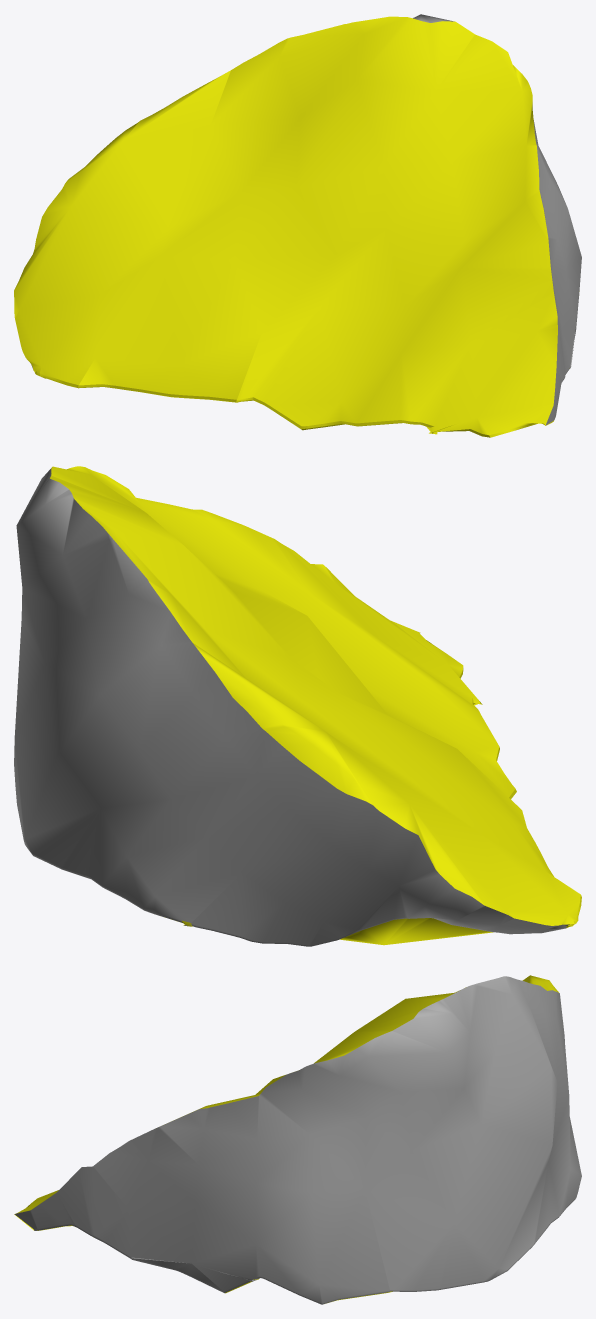
File: Rock_01_06.fbx
3 renders of one model, top to bottom at view 1: azimuth 30°, elevation 25°; view 2: azimuth 150°, elevation 25°; view 3: azimuth 270°, elevation 25°, orthographic. The views are drawn at different scales.
Visible parts, largest first — view 1: shard1; view 2: shard1; view 3: shard1.
Boxes of the visible parts, box(x1,y1,x2,y2) form: shard1: box(14, 14, 581, 437); shard1: box(14, 466, 581, 946); shard1: box(14, 975, 581, 1304).
Bounding box in the file's own units: 129 × 69.82 × 128.
